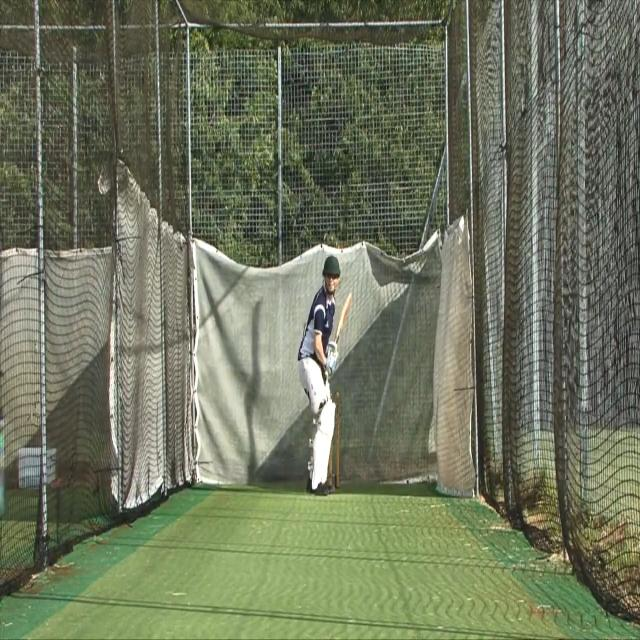batsman: (296, 251, 354, 500)
